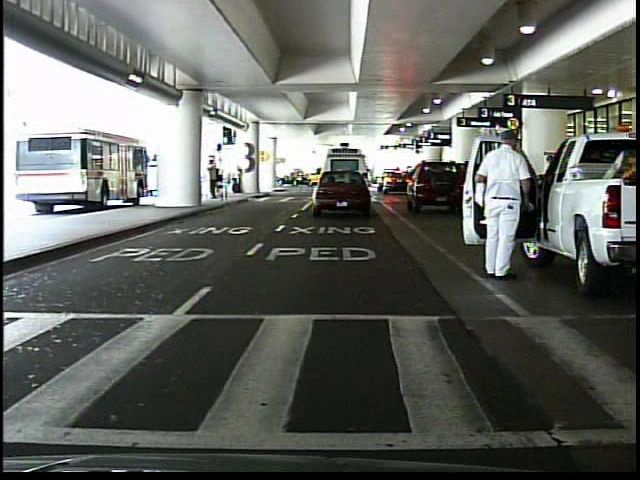person: (475, 126, 533, 284), (208, 155, 222, 202), (231, 163, 247, 198)
